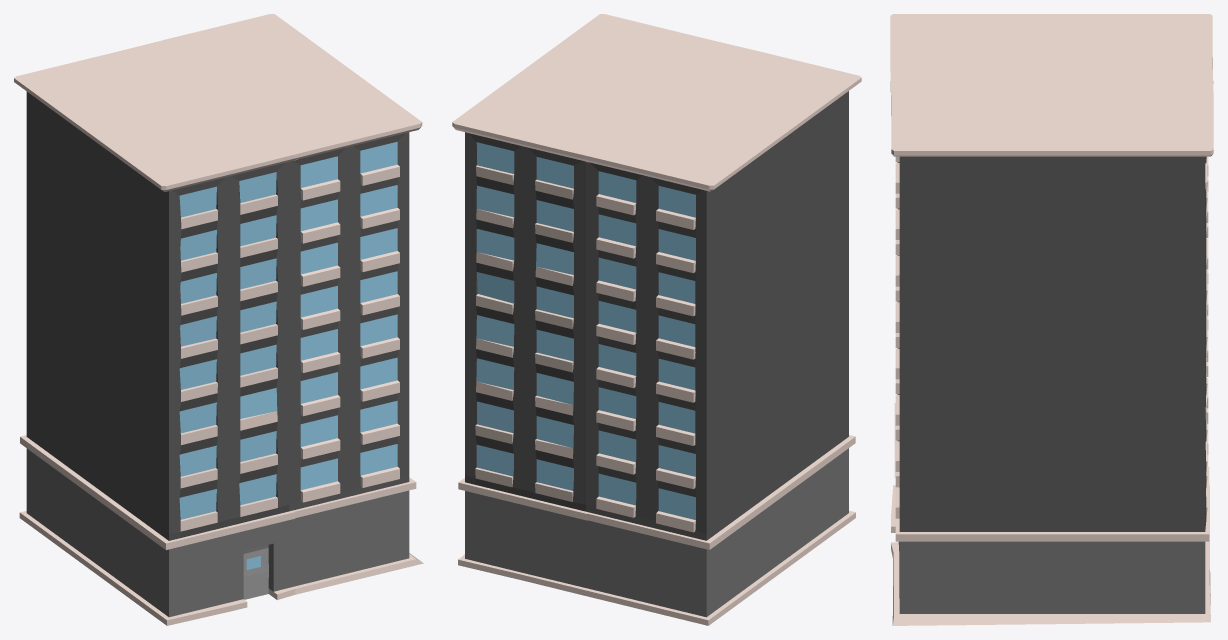
Rendered from flatC.fbx.
3 views of the same model, side by side, from view 1: azimuth 30°, elevation 25°; view 2: azimuth 150°, elevation 25°; view 3: azimuth 270°, elevation 25° (orthographic). The views are drawn at different scales.
Parts seen in each view (by area): view 1: FlatC; view 2: FlatC; view 3: FlatC.
Boxes of the visible parts, <box> form: FlatC: <box>14,14,423,625</box>; FlatC: <box>452,14,861,625</box>; FlatC: <box>890,14,1213,625</box>.
Bounding box in the file's own units: 2069 × 3325 × 2054.
